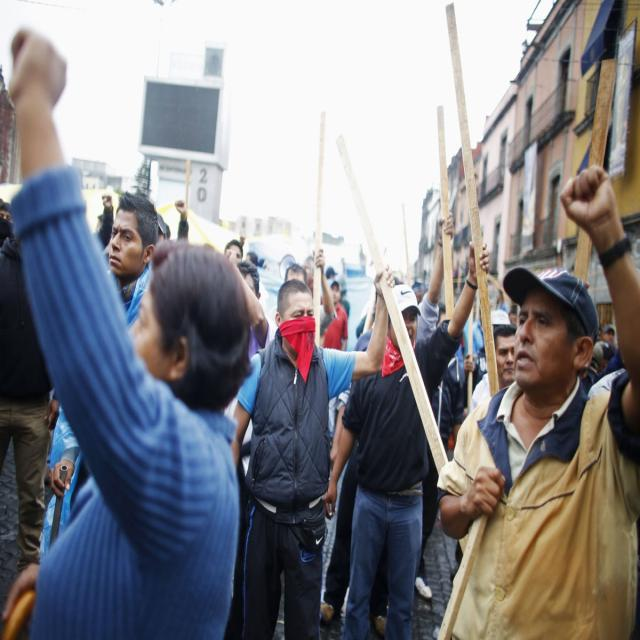body: (4, 17, 255, 639), (433, 162, 640, 640), (228, 262, 398, 640), (318, 211, 455, 635), (323, 278, 459, 639), (40, 188, 160, 560), (0, 238, 64, 584), (416, 302, 466, 603), (275, 251, 352, 352), (451, 286, 519, 396), (223, 248, 271, 362), (469, 323, 518, 416), (355, 266, 404, 341), (584, 325, 625, 395), (222, 237, 267, 300), (156, 198, 196, 254), (322, 280, 349, 352), (91, 190, 117, 248), (0, 196, 17, 246), (412, 280, 427, 301)
